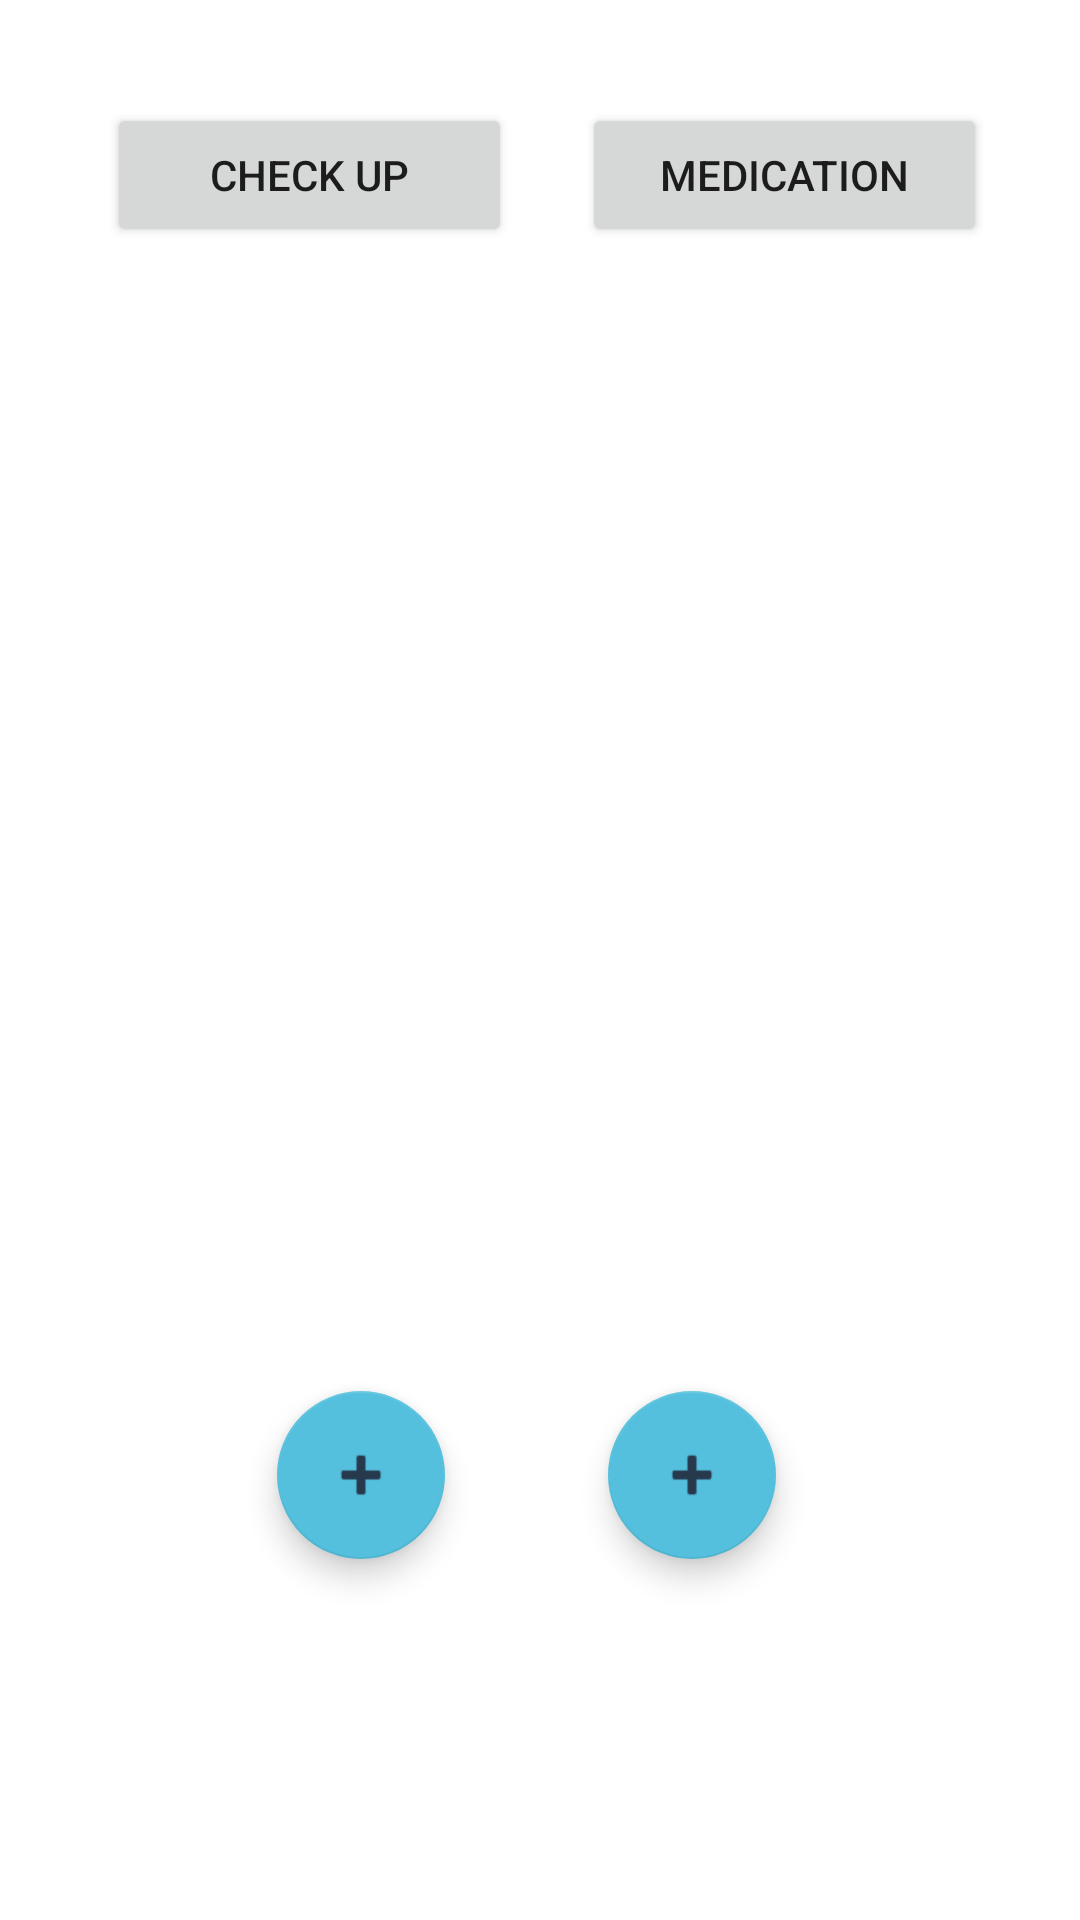

Named icons in this screenshot (1080px×1920px) and their bounding boxes, (x1, y1, x2, y2):
add: (277, 1391, 445, 1559), (608, 1391, 776, 1559)
